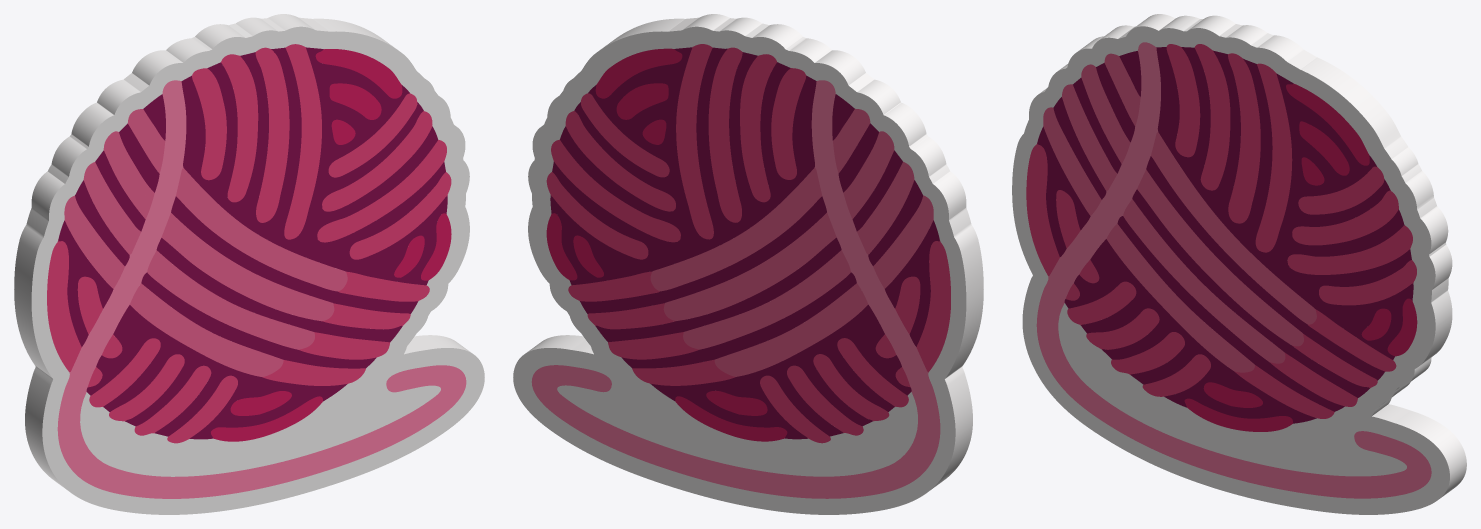
File: novelo.glb
3 views of the same model, side by side, from view 1: azimuth 30°, elevation 25°; view 2: azimuth 150°, elevation 25°; view 3: azimuth 330°, elevation 25° (orthographic). The views are drawn at different scales.
Visible parts, largest first — view 1: Curve, Curve.001, Curve.002, Curve.003, Curve.041, Curve.046, Curve.047, Curve.048, Curve.004, Curve.005, Curve.006, Curve.007 (+32 smaller); view 2: Curve, Curve.108, Curve.107, Curve.106, Curve.068, Curve.063, Curve.062, Curve.061, Curve.105, Curve.104, Curve.103, Curve.102 (+32 smaller); view 3: Curve, Curve.001, Curve.002, Curve.003, Curve.041, Curve.046, Curve.047, Curve.048, Curve.004, Curve.005, Curve.006, Curve.007 (+32 smaller).
Part boxes in pixels (x1,y1,x2,y2): Curve: (14, 14, 484, 514); Curve.001: (181, 47, 447, 285); Curve.002: (57, 80, 466, 498); Curve.003: (86, 305, 347, 439); Curve.041: (176, 168, 347, 291); Curve.046: (161, 213, 334, 321); Curve.047: (147, 250, 314, 349); Curve.048: (130, 283, 283, 376); Curve.004: (284, 44, 321, 239); Curve.005: (255, 47, 289, 222); Curve.006: (171, 196, 417, 313); Curve.007: (156, 238, 402, 342); Curve: (513, 14, 983, 514); Curve.108: (550, 47, 816, 285); Curve.107: (531, 80, 940, 498); Curve.106: (650, 304, 911, 439); Curve.068: (650, 168, 822, 291); Curve.063: (663, 212, 836, 320); Curve.062: (683, 250, 850, 349); Curve.061: (714, 283, 868, 376); Curve.105: (676, 44, 713, 239); Curve.104: (708, 47, 742, 222); Curve.103: (580, 196, 826, 313); Curve.102: (595, 237, 841, 342); Curve: (1012, 14, 1466, 514); Curve.001: (1156, 47, 1413, 359); Curve.002: (1036, 42, 1431, 498); Curve.003: (1064, 239, 1316, 423); Curve.041: (1151, 132, 1316, 324); Curve.046: (1137, 169, 1303, 346); Curve.047: (1123, 199, 1285, 363); Curve.048: (1106, 224, 1254, 372); Curve.004: (1255, 63, 1292, 252); Curve.005: (1228, 53, 1260, 223); Curve.006: (1146, 156, 1384, 380); Curve.007: (1132, 189, 1369, 397).
Bounding box in the file's own units: 0.3 × 0.3 × 0.0232.
